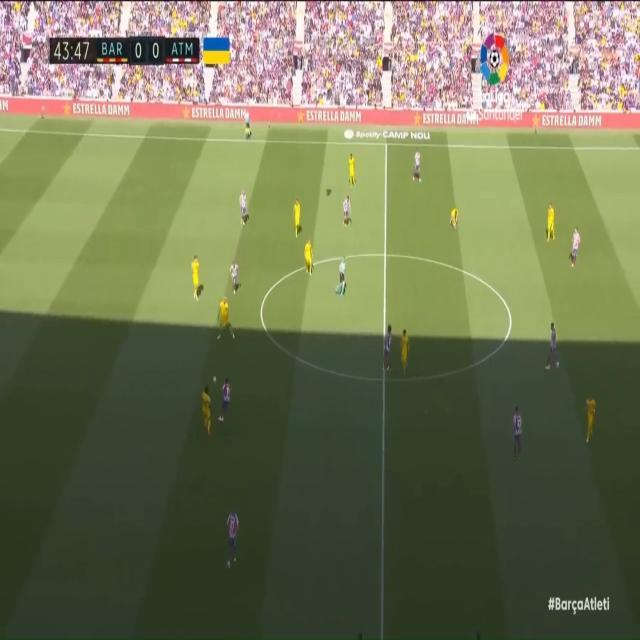ball: (211, 375, 218, 386)
player: (221, 506, 243, 570), (379, 323, 396, 376), (195, 379, 211, 433), (509, 404, 523, 462), (398, 324, 413, 377), (550, 321, 565, 373), (190, 253, 205, 304), (216, 292, 231, 342), (219, 379, 234, 426), (567, 223, 581, 272), (584, 395, 598, 443), (226, 256, 242, 296), (290, 191, 303, 237), (544, 201, 557, 247), (238, 189, 251, 232), (302, 231, 314, 274), (341, 193, 353, 231), (348, 151, 359, 189), (412, 148, 422, 185), (448, 200, 459, 232)
referee: (333, 253, 349, 299), (243, 109, 252, 141)
